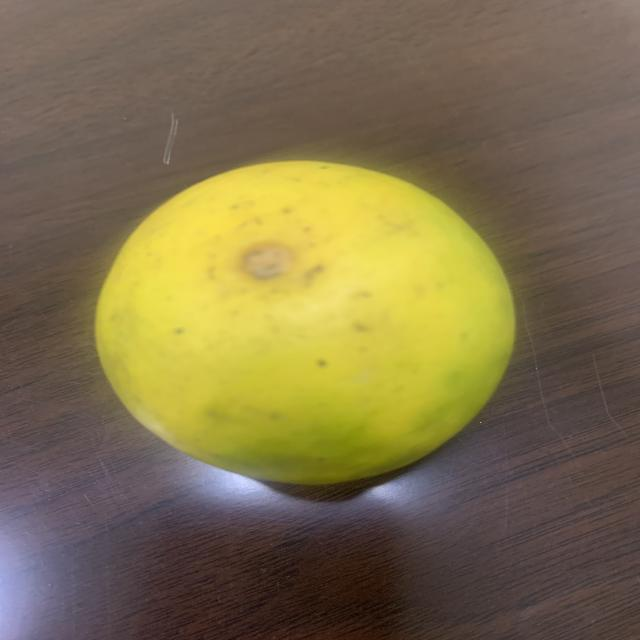Ripe orange: (87, 154, 508, 487)
